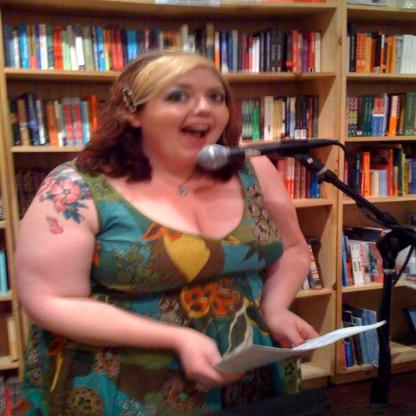book: (8, 90, 319, 148), (0, 21, 319, 71), (338, 225, 415, 288), (344, 143, 416, 202), (346, 24, 416, 74), (346, 91, 416, 138), (343, 301, 384, 374), (269, 152, 321, 200), (308, 238, 325, 291), (295, 241, 313, 289), (8, 315, 20, 362), (0, 376, 13, 416), (313, 90, 322, 140), (254, 0, 330, 5), (150, 0, 221, 5), (0, 251, 6, 294)
